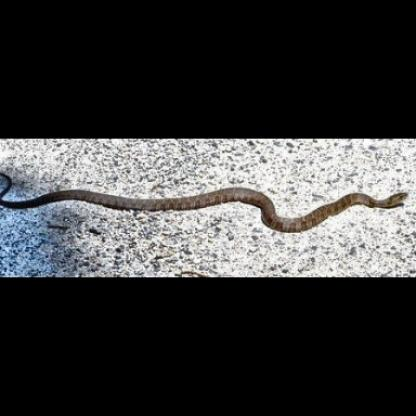Snake: (0, 140, 415, 262)
